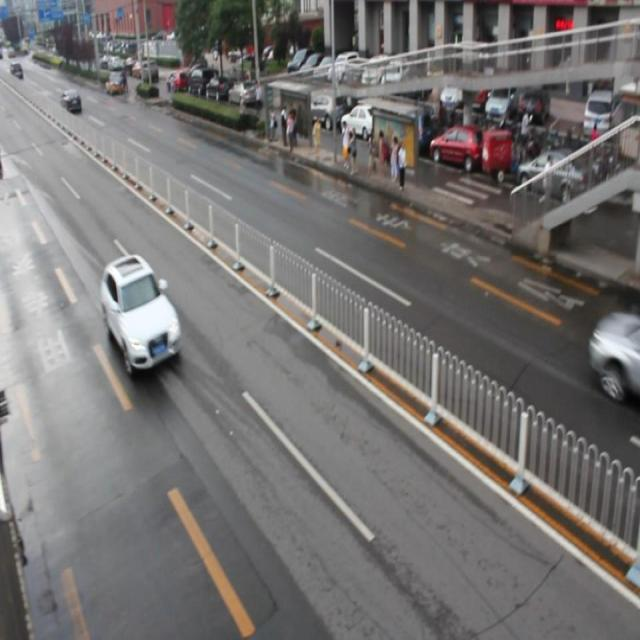car: (107, 252, 188, 374)
